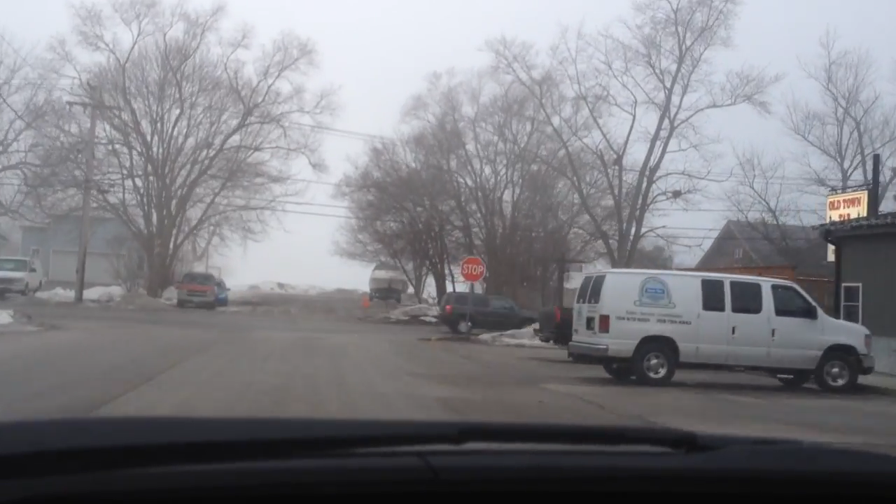car: (567, 267, 877, 389), (532, 291, 682, 356), (438, 291, 542, 334), (173, 271, 222, 308), (1, 256, 44, 297), (197, 277, 232, 306)
